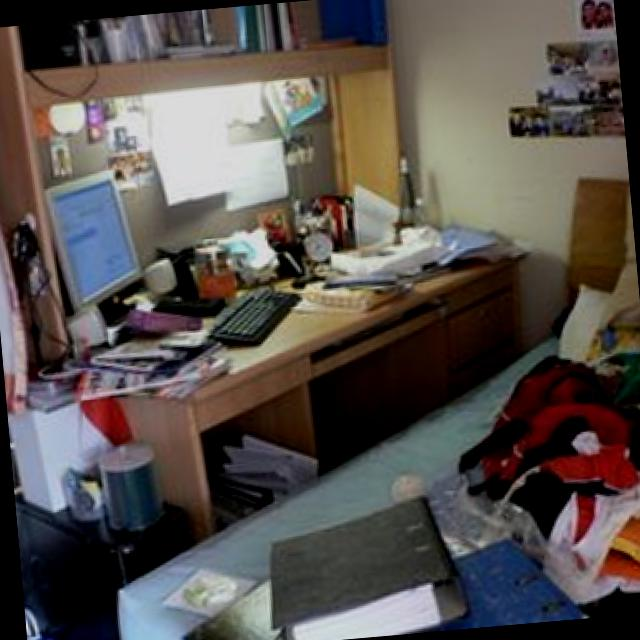mess: (0, 154, 520, 370), (0, 250, 308, 441), (254, 406, 466, 640), (538, 246, 640, 619), (446, 334, 568, 628)
